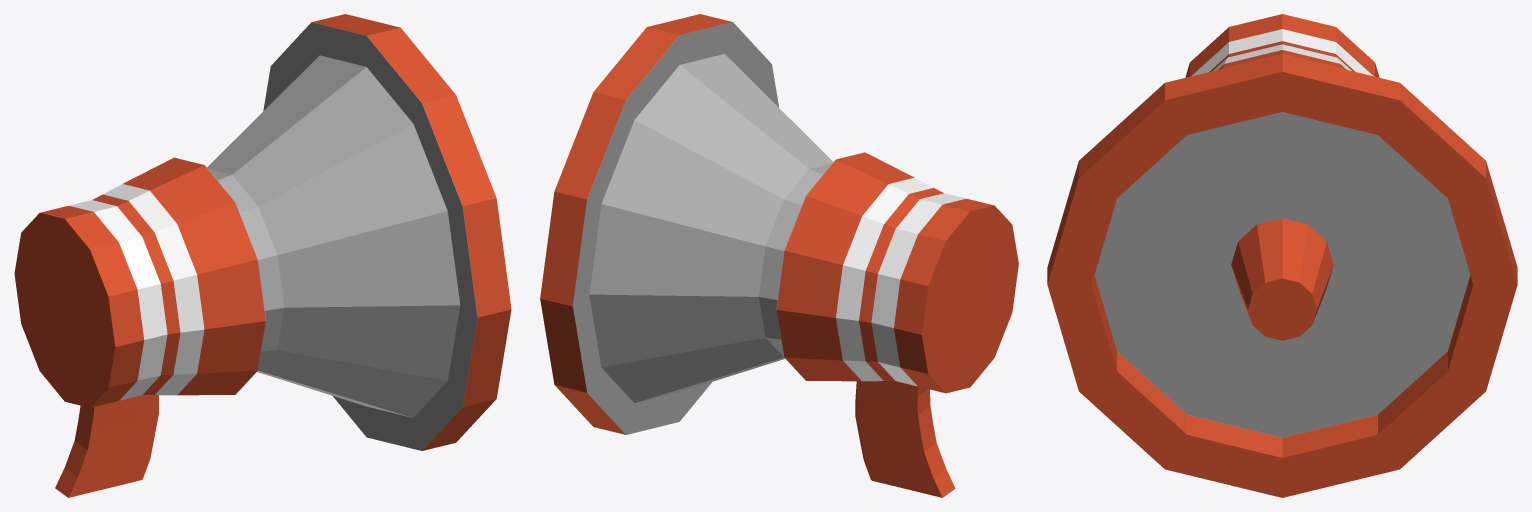
Rendered from laba.fbx.
3 renders of one model, left to right at view 1: azimuth 30°, elevation 25°; view 2: azimuth 150°, elevation 25°; view 3: azimuth 270°, elevation 25°, orthographic. The views are drawn at different scales.
Parts seen in each view (by area): view 1: polySurface148, polySurface151, polySurface150, laba_group1_polySurface122; view 2: polySurface148, polySurface151, polySurface150, laba_group1_polySurface122; view 3: polySurface151, polySurface148, laba_group1_polySurface122.
Boxes of the visible parts, box(x1,y1,x2,y2) form: polySurface148: box(14, 14, 511, 497); polySurface151: box(207, 55, 459, 417); polySurface150: box(263, 22, 477, 450); laba_group1_polySurface122: box(69, 184, 204, 400); polySurface148: box(540, 14, 1018, 497); polySurface151: box(589, 54, 832, 402); polySurface150: box(572, 22, 779, 434); laba_group1_polySurface122: box(836, 177, 965, 386); polySurface151: box(1094, 112, 1470, 437); polySurface148: box(1047, 14, 1517, 497); laba_group1_polySurface122: box(1191, 29, 1373, 76).
Size of the model in its own units: 2 by 2 by 2.
